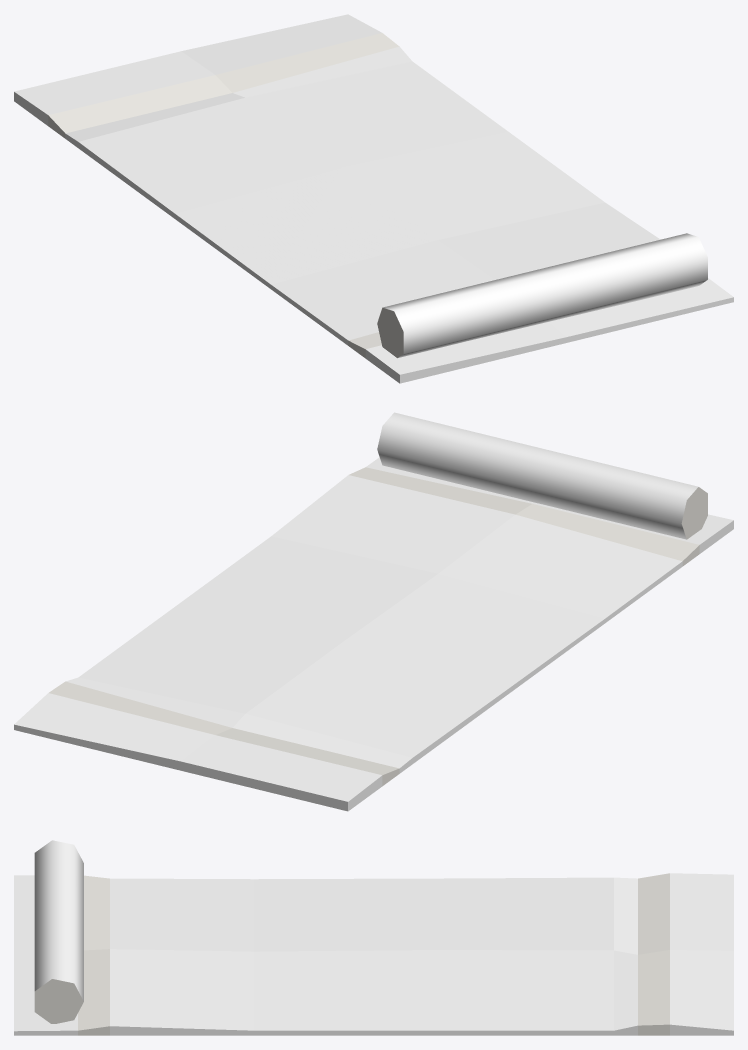
File: prop_towel.glb
The picture shows the model from 3 angles, top to bottom: view 1: azimuth 30°, elevation 25°; view 2: azimuth 150°, elevation 25°; view 3: azimuth 270°, elevation 25°; orthographic projection. The views are drawn at different scales.
Parts seen in each view (by area): view 1: prop_towel__mesh; view 2: prop_towel__mesh; view 3: prop_towel__mesh.
Part boxes in pixels (x1=…): prop_towel__mesh: x1=14, y1=14, x2=733, y2=383; prop_towel__mesh: x1=14, y1=412, x2=733, y2=811; prop_towel__mesh: x1=14, y1=840, x2=733, y2=1035.
Size of the model in its own units: 0.9 by 0.1384 by 1.8.
Materials: 1 (1 with a texture image).
